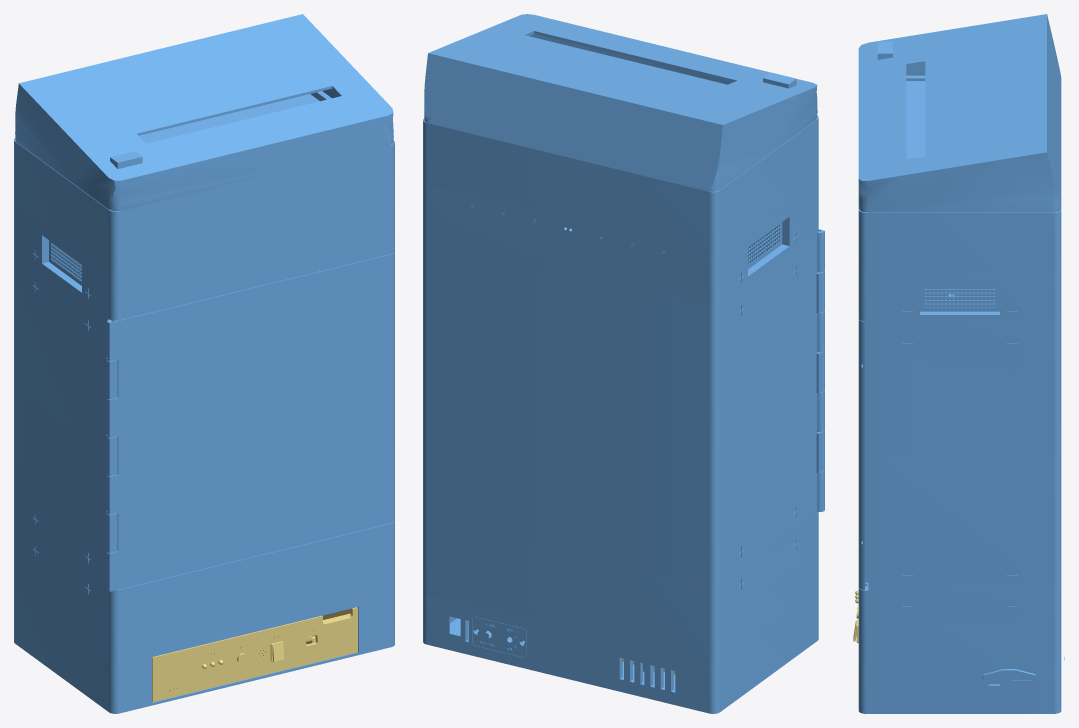
The picture shows the model from 3 angles, left to right: view 1: azimuth 30°, elevation 25°; view 2: azimuth 150°, elevation 25°; view 3: azimuth 270°, elevation 25°; orthographic projection. The views are drawn at different scales.
Visible parts, largest first — view 1: s2_door, head, s1_box, s2_outer, s4, s3, s0_drawer, s0_fixed; view 2: s2_outer, head, s1_box, s4, s3, s0_fixed, s2_door; view 3: s2_outer, head, s1_box, s4, s3, s0_fixed, s2_door, s2_bin.
Boxes of the visible parts, x1=… form: s2_door: x1=107, y1=252, x2=394, y2=591; head: x1=15, y1=14, x2=393, y2=211; s1_box: x1=14, y1=519, x2=394, y2=665; s2_outer: x1=14, y1=249, x2=117, y2=586; s4: x1=14, y1=91, x2=394, y2=270; s3: x1=14, y1=199, x2=394, y2=320; s0_drawer: x1=152, y1=607, x2=357, y2=702; s0_fixed: x1=14, y1=594, x2=394, y2=713; s2_outer: x1=423, y1=233, x2=824, y2=585; head: x1=424, y1=14, x2=817, y2=191; s1_box: x1=423, y1=512, x2=818, y2=663; s4: x1=423, y1=116, x2=818, y2=253; s3: x1=423, y1=179, x2=818, y2=305; s0_fixed: x1=423, y1=590, x2=818, y2=713; s2_door: x1=817, y1=229, x2=824, y2=511; s2_outer: x1=868, y1=319, x2=1061, y2=590; head: x1=858, y1=14, x2=1061, y2=212; s1_box: x1=858, y1=582, x2=1061, y2=665; s4: x1=858, y1=75, x2=1061, y2=271; s3: x1=858, y1=269, x2=1061, y2=321; s0_fixed: x1=858, y1=655, x2=1064, y2=713; s2_door: x1=858, y1=319, x2=867, y2=589; s2_bin: x1=865, y1=287, x2=995, y2=582.
Size of the model in its own units: 0.3562 by 0.651 by 0.2217.
